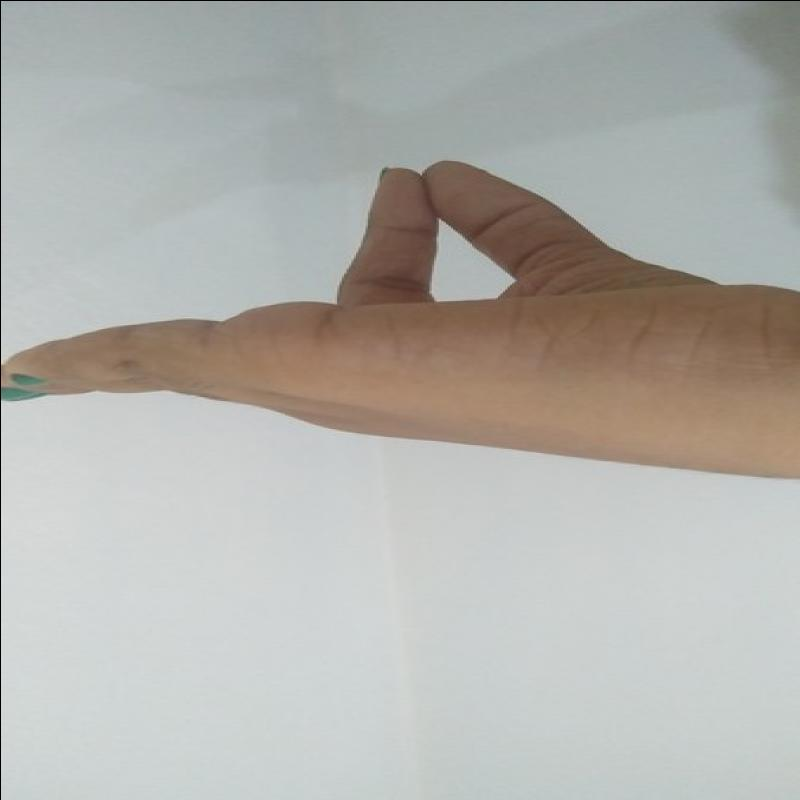Mudraakhyam: (1, 151, 763, 486)
